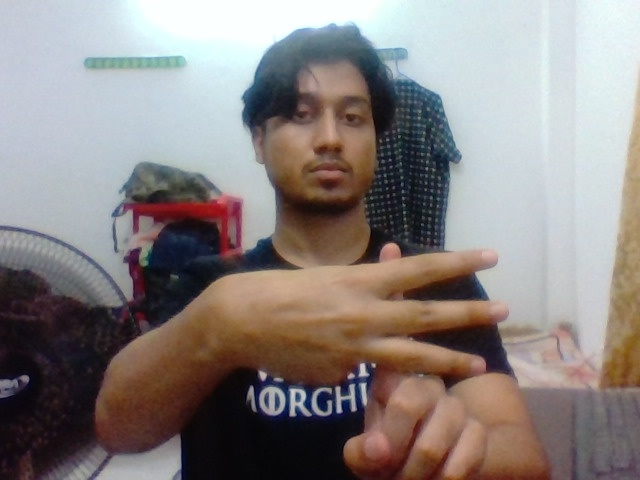E: (337, 235, 522, 478)
